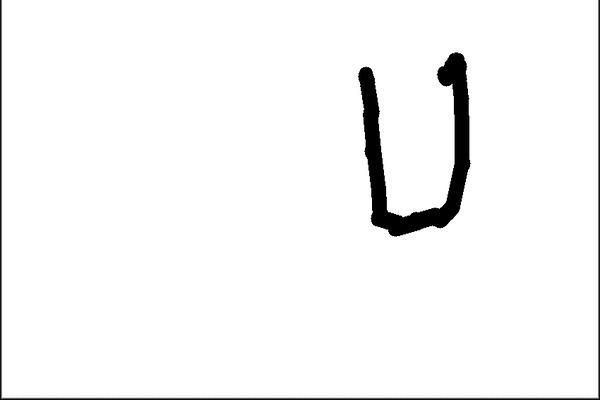U: (349, 40, 487, 240)
